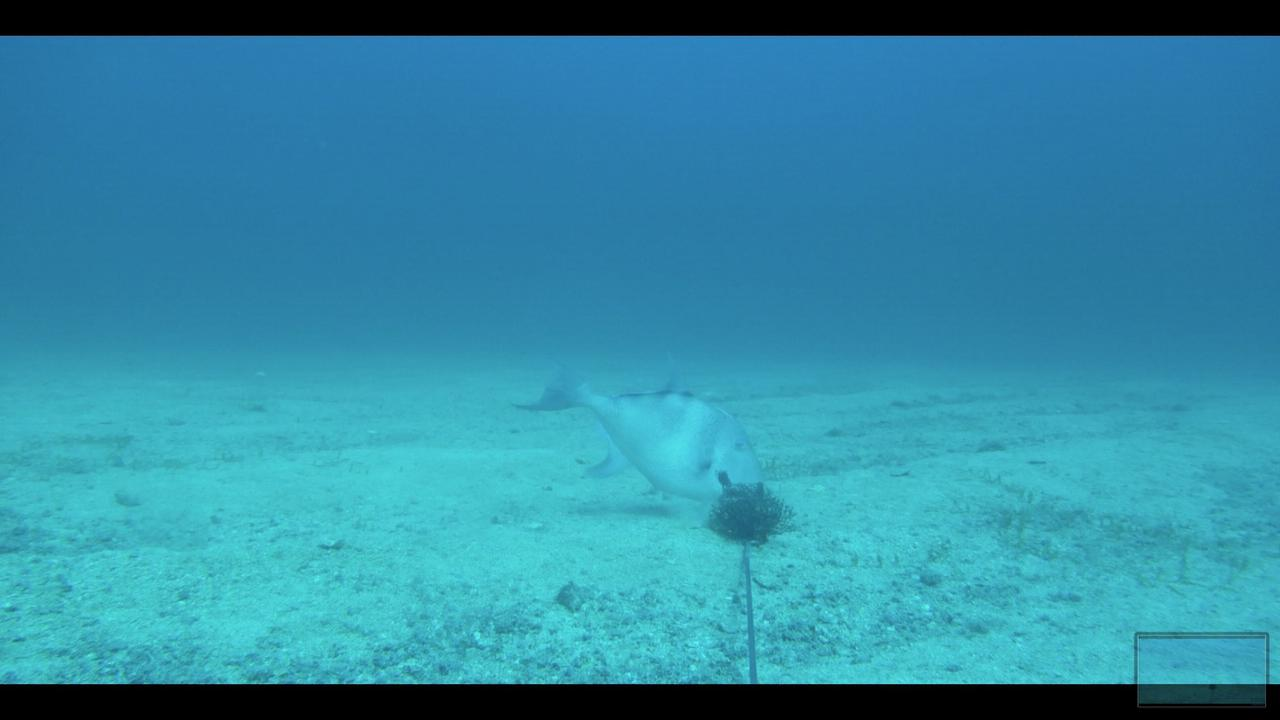balistes: (511, 346, 769, 514)
